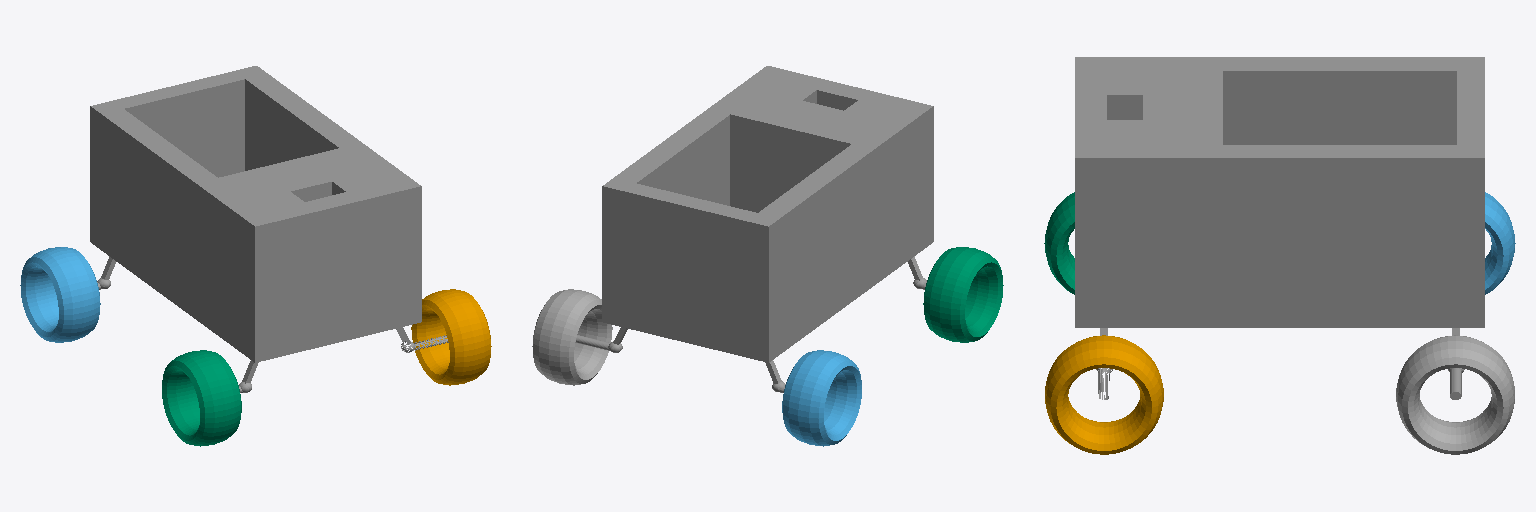
robot.urdf — robot_nuevo:
<?xml version="1.0"?>
<!-- created with Phobos 1.0.1 "Capricious Choutengan" -->
  <robot name="robot_nuevo">

    <link name="Untitled.006">
      <inertial>
        <origin xyz="0 0 0" rpy="0 0 0"/>
        <mass value="0.001"/>
        <inertia ixx="0.001" ixy="0" ixz="0" iyy="0.001" iyz="0" izz="0.001"/>
      </inertial>
    </link>

    <link name="Untitled.007">
      <inertial>
        <origin xyz="0 0 0" rpy="0 0 0"/>
        <mass value="0.001"/>
        <inertia ixx="0.001" ixy="0" ixz="0" iyy="0.001" iyz="0" izz="0.001"/>
      </inertial>
    </link>

    <link name="Untitled.008">
      <inertial>
        <origin xyz="0 0 0" rpy="0 0 0"/>
        <mass value="0.001"/>
        <inertia ixx="0.001" ixy="0" ixz="0" iyy="0.001" iyz="0" izz="0.001"/>
      </inertial>
    </link>

    <link name="Untitled.009">
      <inertial>
        <origin xyz="0 0 0" rpy="0 0 0"/>
        <mass value="0.001"/>
        <inertia ixx="0.001" ixy="0" ixz="0" iyy="0.001" iyz="0" izz="0.001"/>
      </inertial>
    </link>

    <link name="coche">
      <inertial>
        <origin xyz="0 0 0" rpy="0 0 0"/>
        <mass value="0.001"/>
        <inertia ixx="0.001" ixy="0" ixz="0" iyy="0.001" iyz="0" izz="0.001"/>
      </inertial>
      <visual name="car">
        <origin xyz="0 0 0" rpy="0 0 0"/>
        <geometry>
          <mesh filename="../meshes/dae/Cube.dae" scale="1.0 1.715 0.78246"/>
        </geometry>
        <material name="Material"/>
      </visual>
    </link>

    <link name="pinzaL">
      <inertial>
        <origin xyz="0 0 0" rpy="0 0 0"/>
        <mass value="0.001"/>
        <inertia ixx="0.001" ixy="0" ixz="0" iyy="0.001" iyz="0" izz="0.001"/>
      </inertial>
    </link>

    <link name="pinzaR">
      <inertial>
        <origin xyz="0 0 0" rpy="0 0 0"/>
        <mass value="0.001"/>
        <inertia ixx="0.001" ixy="0" ixz="0" iyy="0.001" iyz="0" izz="0.001"/>
      </inertial>
    </link>

    <link name="rueda1">
      <inertial>
        <origin xyz="0 0 0" rpy="0 0 0"/>
        <mass value="0.001"/>
        <inertia ixx="0.001" ixy="0" ixz="0" iyy="0.001" iyz="0" izz="0.001"/>
      </inertial>
      <visual name="rueda3.001">
        <origin xyz="0 0 0" rpy="0 0 0"/>
        <geometry>
          <mesh filename="../meshes/dae/Torus.007.dae" scale="0.4 0.4 1.0"/>
        </geometry>
      </visual>
    </link>

    <link name="rueda2">
      <inertial>
        <origin xyz="0 0 0" rpy="0 0 0"/>
        <mass value="0.001"/>
        <inertia ixx="0.001" ixy="0" ixz="0" iyy="0.001" iyz="0" izz="0.001"/>
      </inertial>
      <visual name="rueda4.001">
        <origin xyz="0 0 0" rpy="0 0 0"/>
        <geometry>
          <mesh filename="../meshes/dae/Torus.008.dae" scale="0.4 0.4 1.0"/>
        </geometry>
      </visual>
    </link>

    <link name="rueda3">
      <inertial>
        <origin xyz="0 0 0" rpy="0 0 0"/>
        <mass value="0.001"/>
        <inertia ixx="0.001" ixy="0" ixz="0" iyy="0.001" iyz="0" izz="0.001"/>
      </inertial>
      <visual name="rueda2.001">
        <origin xyz="0 0 0" rpy="0 0 0"/>
        <geometry>
          <mesh filename="../meshes/dae/Torus.003.dae" scale="0.4 0.4 1.0"/>
        </geometry>
      </visual>
    </link>

    <link name="rueda4">
      <inertial>
        <origin xyz="0 0 0" rpy="0 0 0"/>
        <mass value="0.001"/>
        <inertia ixx="0.001" ixy="0" ixz="0" iyy="0.001" iyz="0" izz="0.001"/>
      </inertial>
      <visual name="rueda1.001">
        <origin xyz="0 0 0" rpy="0 0 0"/>
        <geometry>
          <mesh filename="../meshes/dae/Torus.006.dae" scale="0.4 0.4 1.0"/>
        </geometry>
      </visual>
    </link>

    <link name="sphere">
      <inertial>
        <origin xyz="0 0 0" rpy="0 0 0"/>
        <mass value="0.001"/>
        <inertia ixx="0.001" ixy="0" ixz="0" iyy="0.001" iyz="0" izz="0.001"/>
      </inertial>
    </link>

    <joint name="Untitled.006" type="prismatic">
      <origin xyz="0 -1.3 1.59275" rpy="0 0 0"/>
      <parent link="coche"/>
      <child link="Untitled.006"/>
      <axis xyz="0 0 1.0"/>
      <limit lower="0" upper="0" effort="0" velocity="0"/>
    </joint>

    <joint name="Untitled.007" type="floating">
      <origin xyz="0 -1.29238 2.37723" rpy="1.5708 0 0"/>
      <parent link="coche"/>
      <child link="Untitled.007"/>
    </joint>

    <joint name="Untitled.008" type="floating">
      <origin xyz="0 -4.38732 2.26152" rpy="0 0 0"/>
      <parent link="coche"/>
      <child link="Untitled.008"/>
    </joint>

    <joint name="Untitled.009" type="floating">
      <origin xyz="0 -4.38567 1.50827" rpy="0 0 0"/>
      <parent link="coche"/>
      <child link="Untitled.009"/>
    </joint>

    <joint name="pinzaL" type="floating">
      <origin xyz="-0.44 -4.38808 1.25" rpy="0 1.5708 0"/>
      <parent link="coche"/>
      <child link="pinzaL"/>
    </joint>

    <joint name="pinzaR" type="floating">
      <origin xyz="0.44 -4.38578 1.25" rpy="0 1.5708 0"/>
      <parent link="coche"/>
      <child link="pinzaR"/>
    </joint>

    <joint name="rueda1" type="continuous">
      <origin xyz="1.5 1.47 -1.17" rpy="0 1.5708 0"/>
      <parent link="coche"/>
      <child link="rueda1"/>
      <axis xyz="0 0 1.0"/>
      <limit effort="0" velocity="0"/>
    </joint>

    <joint name="rueda2" type="continuous">
      <origin xyz="1.5 -1.47 -1.17" rpy="0 1.5708 0"/>
      <parent link="coche"/>
      <child link="rueda2"/>
      <axis xyz="0 0 1.0"/>
      <limit effort="0" velocity="0"/>
    </joint>

    <joint name="rueda3" type="continuous">
      <origin xyz="-1.5 1.47 -1.17" rpy="0 1.5708 0"/>
      <parent link="coche"/>
      <child link="rueda3"/>
      <axis xyz="0 0 1.0"/>
      <limit effort="0" velocity="0"/>
    </joint>

    <joint name="rueda4" type="continuous">
      <origin xyz="-1.5 -1.47 -1.17" rpy="0 1.5708 0"/>
      <parent link="coche"/>
      <child link="rueda4"/>
      <axis xyz="0 0 1.0"/>
      <limit effort="0" velocity="0"/>
    </joint>

    <joint name="sphere" type="floating">
      <origin xyz="-0.01713 -1.2991 2.34501" rpy="0 0 0"/>
      <parent link="coche"/>
      <child link="sphere"/>
    </joint>

    <material name="Material">
      <color rgba="0.64 0.64 0.64 1.0"/>
    </material>

  </robot>

--- Facts derived from the render (not from the file) ---
3 views of the same robot in one strip: view 1: azimuth 30°, elevation 25°; view 2: azimuth 150°, elevation 25°; view 3: azimuth 270°, elevation 25° (orthographic).
Robot: robot_nuevo — 12 links, 11 joints (4 continuous, 1 prismatic, 6 floating); root link coche; default pose: every joint at zero.
Links seen in each view (by area): view 1: coche, rueda4, rueda3, rueda2; view 2: coche, rueda3, rueda4, rueda1; view 3: coche, rueda1, rueda2, rueda3, rueda4.
Boxes of the visible links, bbox=[...] form: coche: bbox=[90, 66, 448, 392]; rueda4: bbox=[162, 350, 241, 446]; rueda3: bbox=[20, 247, 100, 342]; rueda2: bbox=[411, 289, 491, 385]; coche: bbox=[575, 66, 933, 392]; rueda3: bbox=[782, 350, 861, 446]; rueda4: bbox=[923, 247, 1003, 342]; rueda1: bbox=[532, 289, 612, 385]; coche: bbox=[1075, 57, 1484, 399]; rueda1: bbox=[1396, 335, 1514, 454]; rueda2: bbox=[1045, 335, 1163, 454]; rueda3: bbox=[1485, 192, 1515, 294]; rueda4: bbox=[1044, 192, 1074, 294].
Bounding box of the posed robot: 3.5 × 3.94 × 2.45 m (x, y, z).
5 mesh visuals loaded from 5 distinct referenced files (5 Collada DAE).